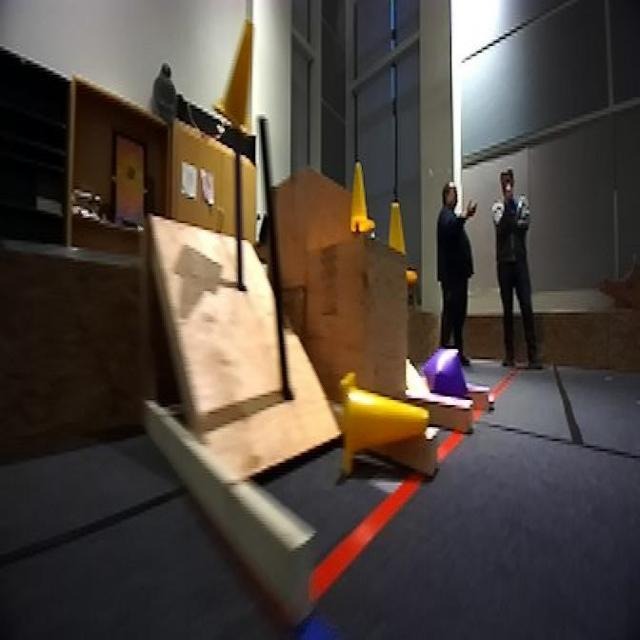frc_cone: (334, 373, 430, 475), (216, 15, 256, 134), (385, 196, 419, 281), (341, 157, 376, 238)
frc_cube: (424, 349, 468, 405)
